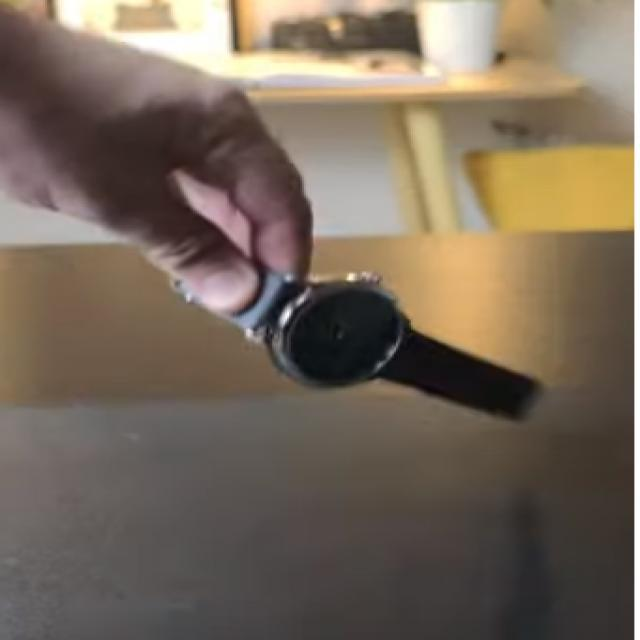Watch: (170, 251, 542, 424)
